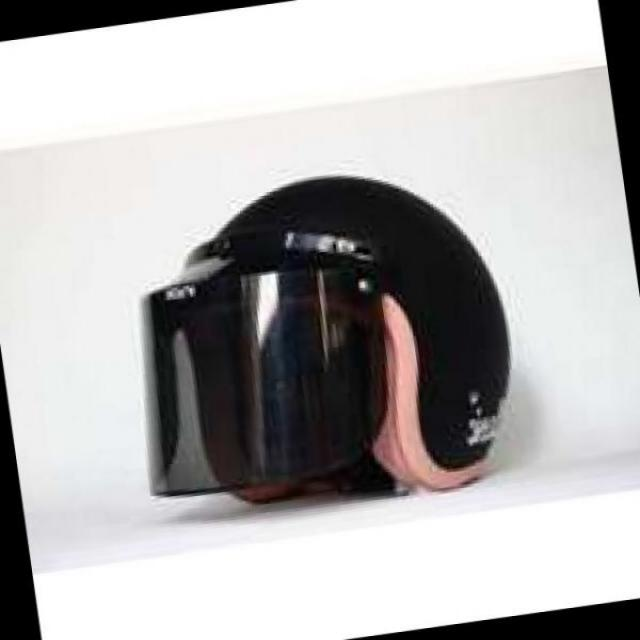Helmet: (109, 186, 525, 492)
